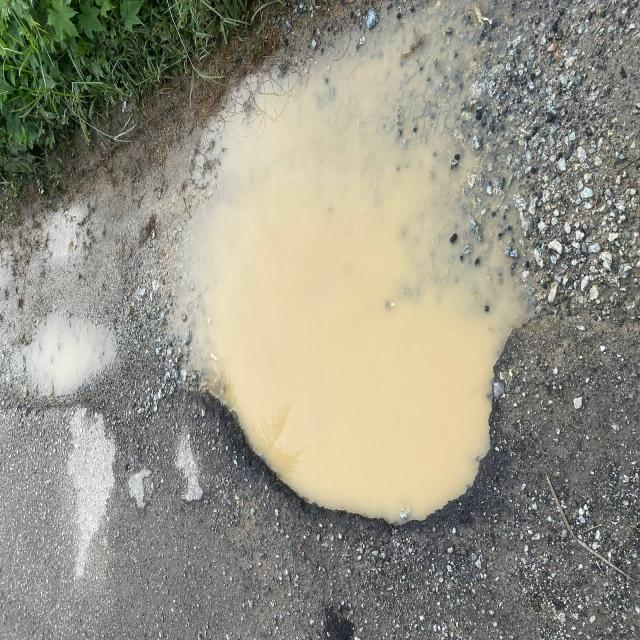Pothole: (127, 213, 610, 590)
